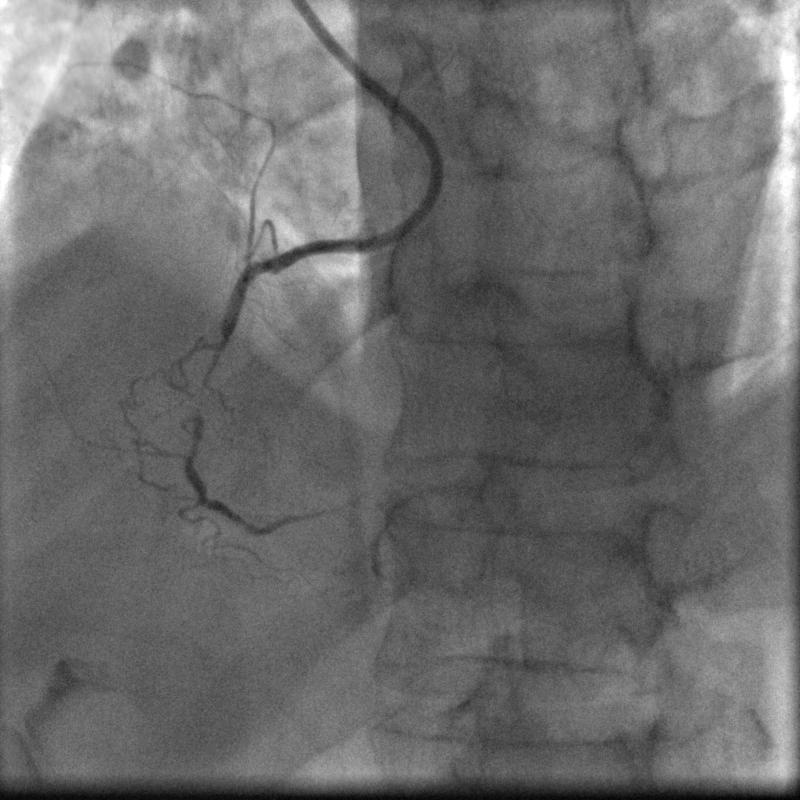Stenosis: (185, 324, 229, 422)
